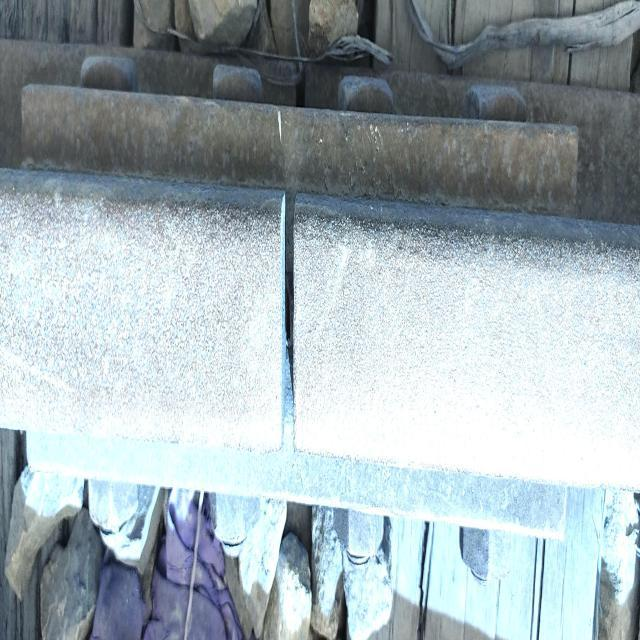Good Joint: (18, 48, 588, 616)
